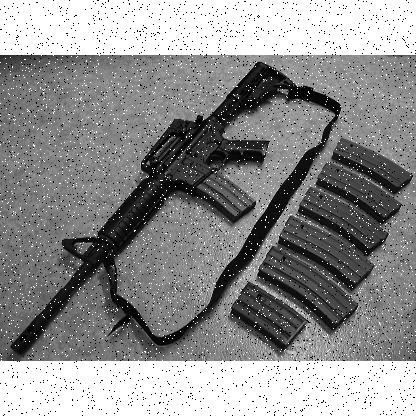gun: (10, 60, 340, 354)
